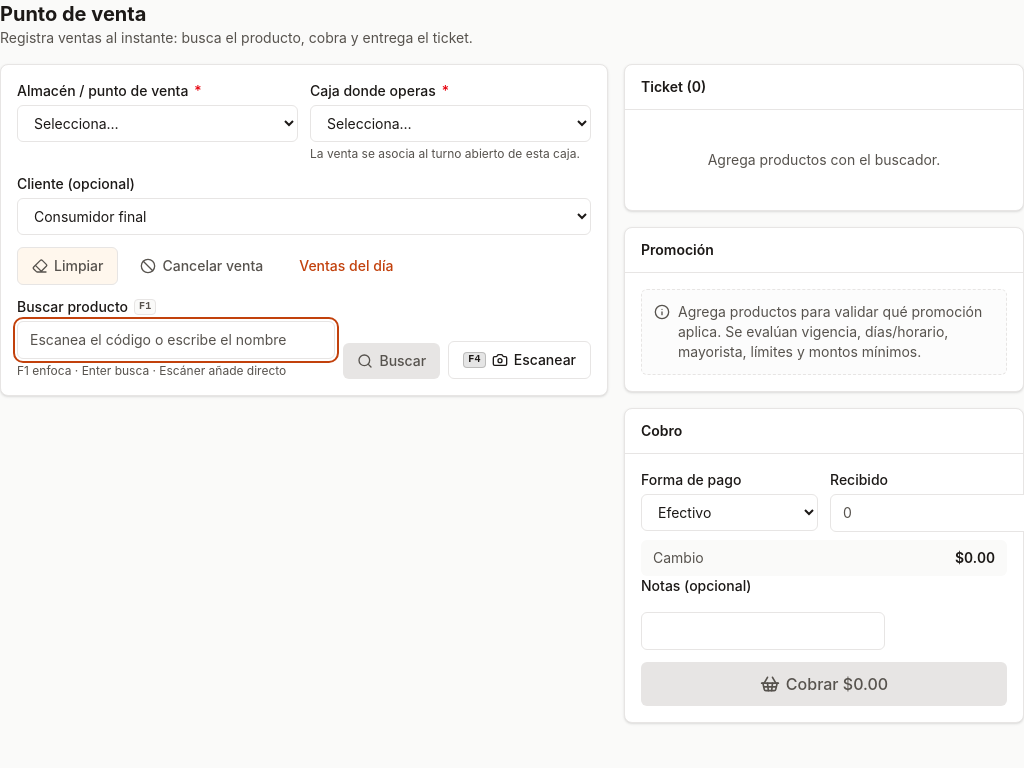
Test case: PosPage › muestra las ventas del día con datos en tabla
Click the button with aria-label "Ver ventas del día": point(346, 266) [285,247,407,285]
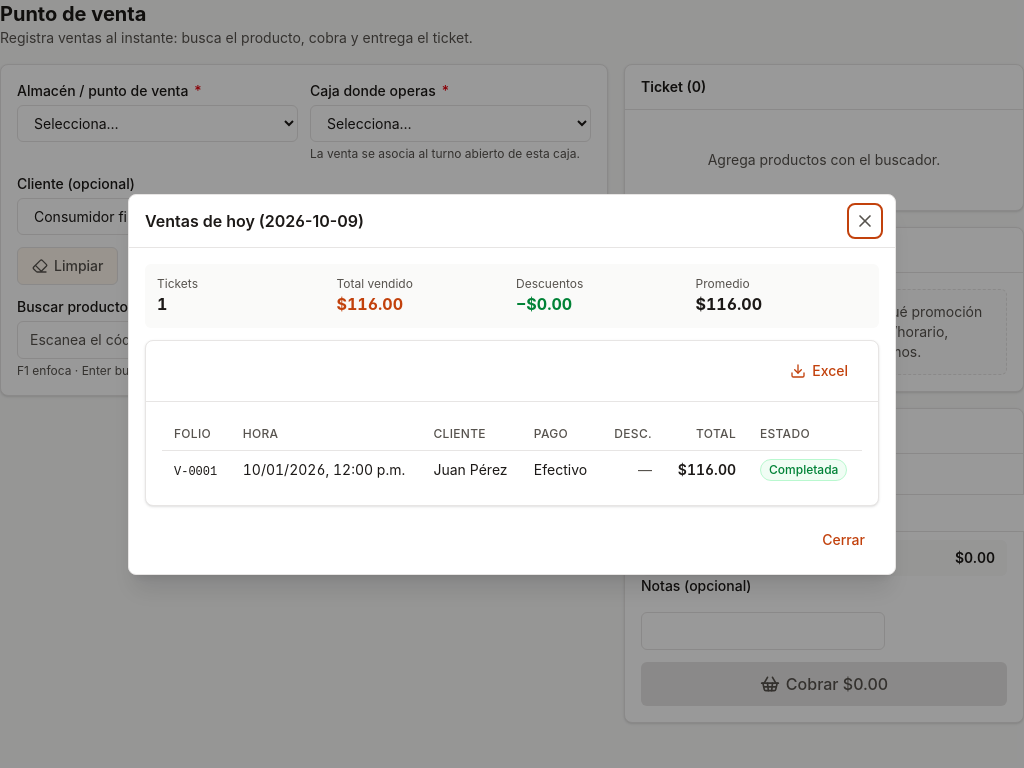
expect the heading "Ventas de hoy (2026-10-09)" is shown: met, box [145,208,364,232]
expect the text "V-0001" is shown: met, box [174,464,217,478]
expect the text "Tickets" is shown: met, box [157,276,198,290]
